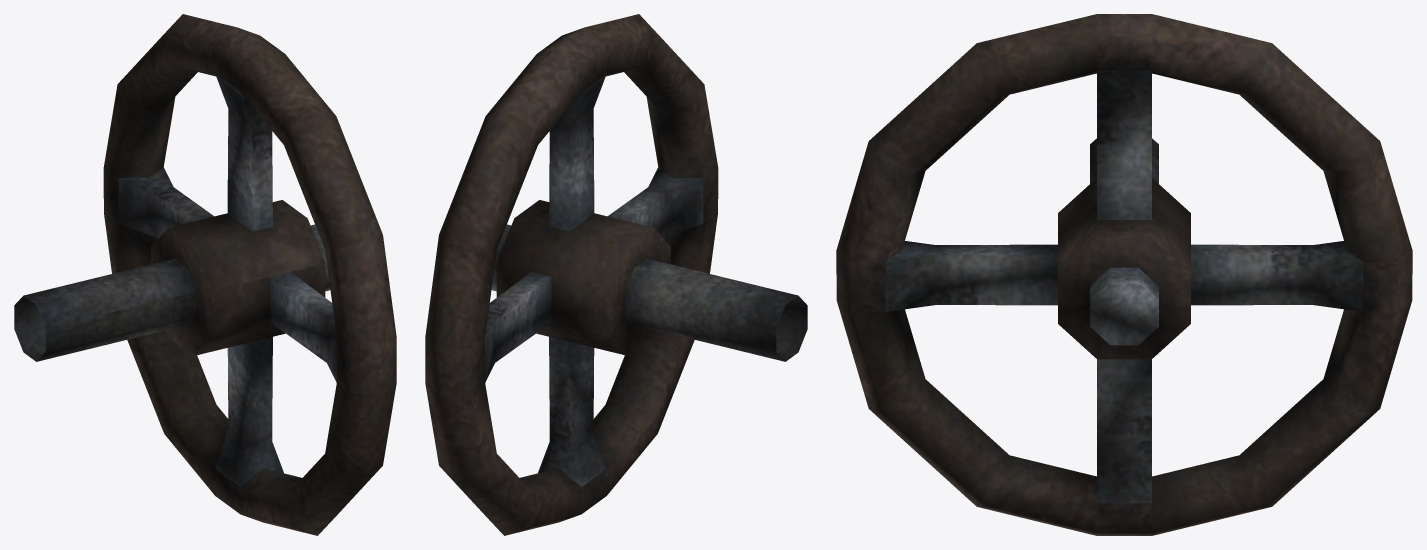
File: tech_pipe_brown_valve_handle.dae
The picture shows the model from 3 angles, left to right: view 1: azimuth 30°, elevation 25°; view 2: azimuth 150°, elevation 25°; view 3: azimuth 270°, elevation 25°; orthographic projection. The views are drawn at different scales.
Visible parts, largest first — view 1: valve; view 2: valve; view 3: valve.
Part boxes in pixels (box(x1,y1,x2,y2)): valve: box(14, 14, 396, 535); valve: box(425, 14, 807, 535); valve: box(836, 14, 1412, 535).
Size of the model in its own units: 0.3015 by 0.468 by 0.468.
Materials: 1 (1 with a texture image).
